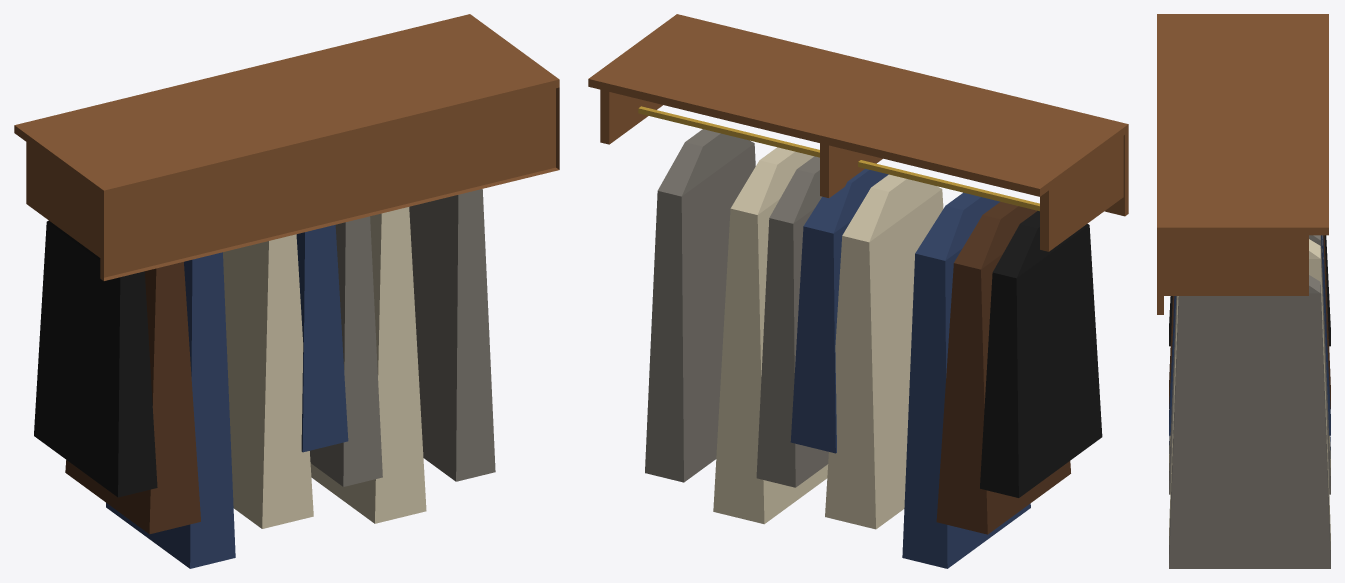
The model's file is parametric-coat_rack-service.glb.
The picture shows the model from 3 angles, left to right: view 1: azimuth 30°, elevation 25°; view 2: azimuth 150°, elevation 25°; view 3: azimuth 270°, elevation 25°; orthographic projection. The views are drawn at different scales.
Visible parts, largest first — view 1: parametric-coat_rack-service; view 2: parametric-coat_rack-service; view 3: parametric-coat_rack-service.
Boxes of the visible parts, x1,y1,x2,y2 form: parametric-coat_rack-service: (14,14,559,568); parametric-coat_rack-service: (588,14,1128,568); parametric-coat_rack-service: (1157,14,1330,568).
Bounding box in the file's own units: 1.5 × 1.27 × 0.515.
